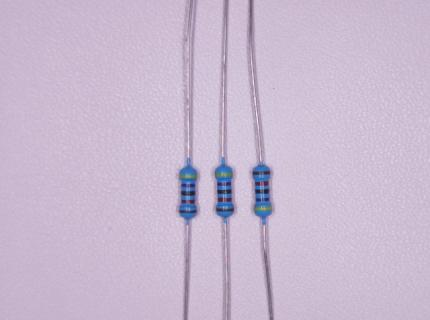Black band: (255, 188, 270, 194), (217, 189, 232, 194), (181, 191, 195, 196)
Brown band: (252, 171, 271, 175), (216, 208, 234, 212), (179, 210, 197, 213)
Red band: (254, 181, 269, 186), (181, 199, 195, 204), (218, 198, 232, 202)
Violet band: (181, 183, 196, 188), (217, 182, 232, 186), (255, 197, 270, 201)
Yellow band: (179, 174, 197, 178), (215, 173, 233, 176), (254, 207, 272, 210)
